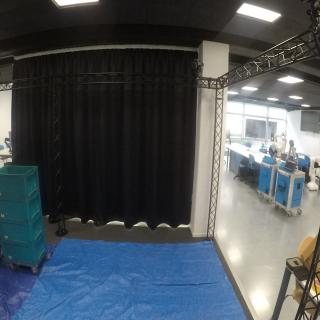BoxB4: (1, 166, 41, 199), (2, 240, 50, 264), (1, 220, 45, 245), (1, 198, 43, 222)
